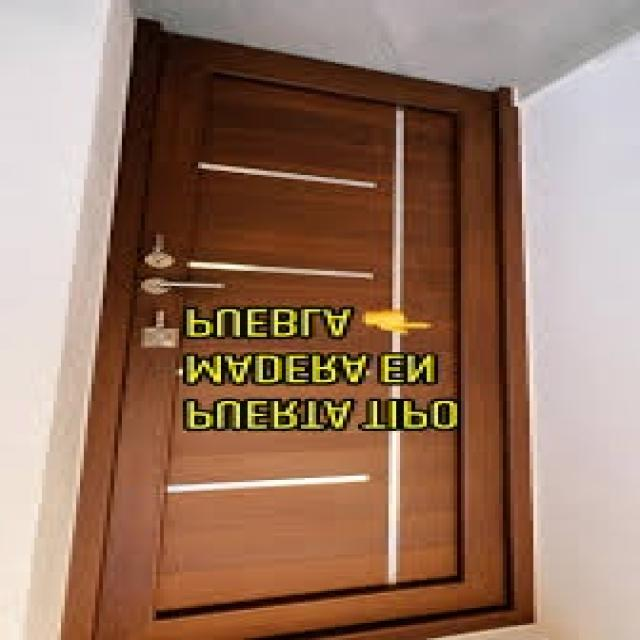door: (63, 21, 531, 640)
